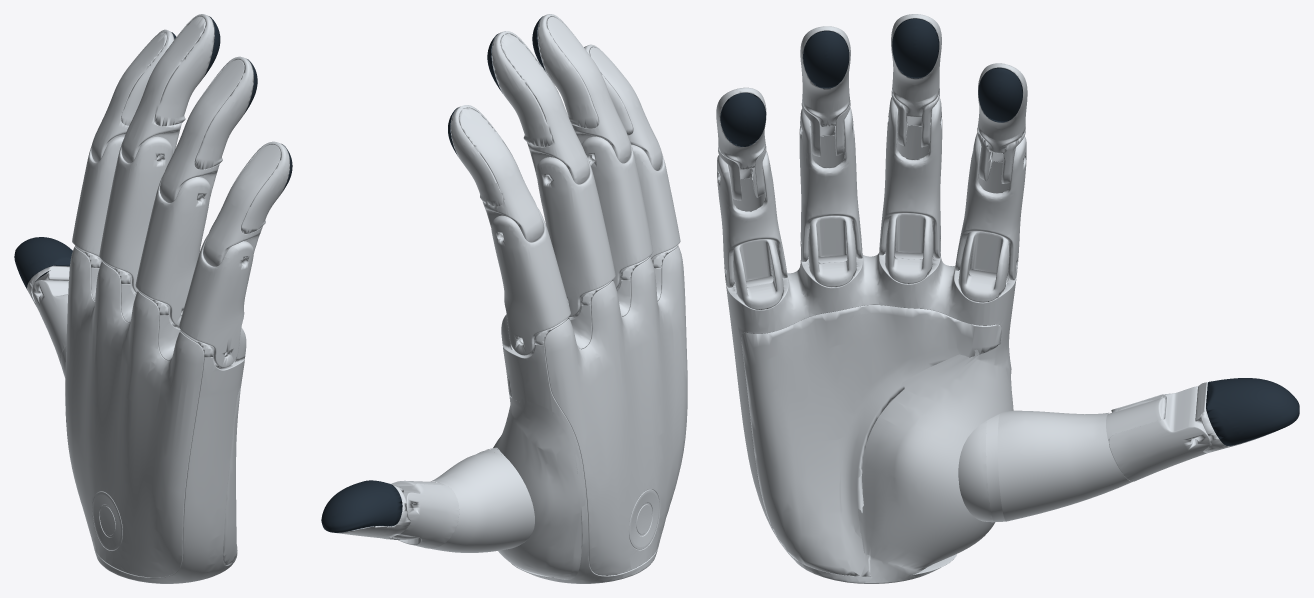
The model's file is revo2-right.glb.
3 renders of one model, left to right at view 1: azimuth 30°, elevation 25°; view 2: azimuth 150°, elevation 25°; view 3: azimuth 270°, elevation 25°, orthographic. The views are drawn at different scales.
Visible parts, largest first — view 1: right_base_link_visual, right_ring_proximal_link_visual, right_middle_distal_link_visual, right_ring_distal_link_visual, right_pinky_proximal_link_visual, right_middle_proximal_link_visual, right_pinky_distal_link_visual, right_index_distal_link_visual, right_index_proximal_link_visual, right_thumb_proximal_link_visual, right_thumb_touch_link_visual, right_thumb_distal_link_visual; view 2: right_base_link_visual (×2), right_thumb_proximal_link_visual, right_middle_proximal_link_visual, right_middle_distal_link_visual, right_index_proximal_link_visual, right_ring_distal_link_visual, right_index_distal_link_visual, right_ring_proximal_link_visual, right_thumb_touch_link_visual, right_pinky_proximal_link_visual, right_pinky_distal_link_visual, right_thumb_distal_link_visual; view 3: right_base_link_visual (×2), right_thumb_proximal_link_visual, right_middle_proximal_link_visual, right_ring_proximal_link_visual, right_index_proximal_link_visual, right_thumb_touch_link_visual, right_pinky_proximal_link_visual, right_ring_distal_link_visual, right_middle_distal_link_visual, right_index_distal_link_visual, right_pinky_distal_link_visual, right_middle_touch_link_visual (+4 smaller).
Part boxes in pixels (x1,y1,x2,y2): right_base_link_visual: (65,245,246,583); right_ring_proximal_link_visual: (135,174,210,326); right_middle_distal_link_visual: (121,14,214,163); right_ring_distal_link_visual: (159,56,253,202); right_pinky_proximal_link_visual: (179,234,253,367); right_middle_proximal_link_visual: (99,136,172,292); right_pinky_distal_link_visual: (203,141,289,266); right_index_distal_link_visual: (91,29,174,162); right_index_proximal_link_visual: (72,136,124,260); right_thumb_proximal_link_visual: (32,280,68,377); right_thumb_touch_link_visual: (14,237,72,288); right_thumb_distal_link_visual: (27,265,69,306); right_base_link_visual (×2): (493,245,687,583); right_thumb_proximal_link_visual: (389,447,534,552); right_middle_proximal_link_visual: (536,154,615,317); right_middle_distal_link_visual: (491,31,589,184); right_index_proximal_link_visual: (491,207,570,355); right_ring_distal_link_visual: (537,14,631,163); right_index_distal_link_visual: (450,105,543,242); right_ring_proximal_link_visual: (581,136,653,288); right_thumb_touch_link_visual: (321,480,402,532); right_pinky_proximal_link_visual: (631,145,680,258); right_pinky_distal_link_visual: (584,44,662,170); right_thumb_distal_link_visual: (337,484,410,539); right_base_link_visual (×2): (725,213,1017,583); right_thumb_proximal_link_visual: (958,386,1210,522); right_middle_proximal_link_visual: (879,97,942,258); right_ring_proximal_link_visual: (799,107,862,261); right_index_proximal_link_visual: (955,133,1026,280); right_thumb_touch_link_visual: (1206,378,1299,445); right_pinky_proximal_link_visual: (717,151,787,287); right_ring_distal_link_visual: (800,26,850,156); right_middle_distal_link_visual: (891,14,941,147); right_index_distal_link_visual: (977,63,1027,183); right_pinky_distal_link_visual: (716,87,766,200); right_middle_touch_link_visual: (892,18,939,78).
Size of the model in its own units: 0.0458 by 0.1595 by 0.1481.
